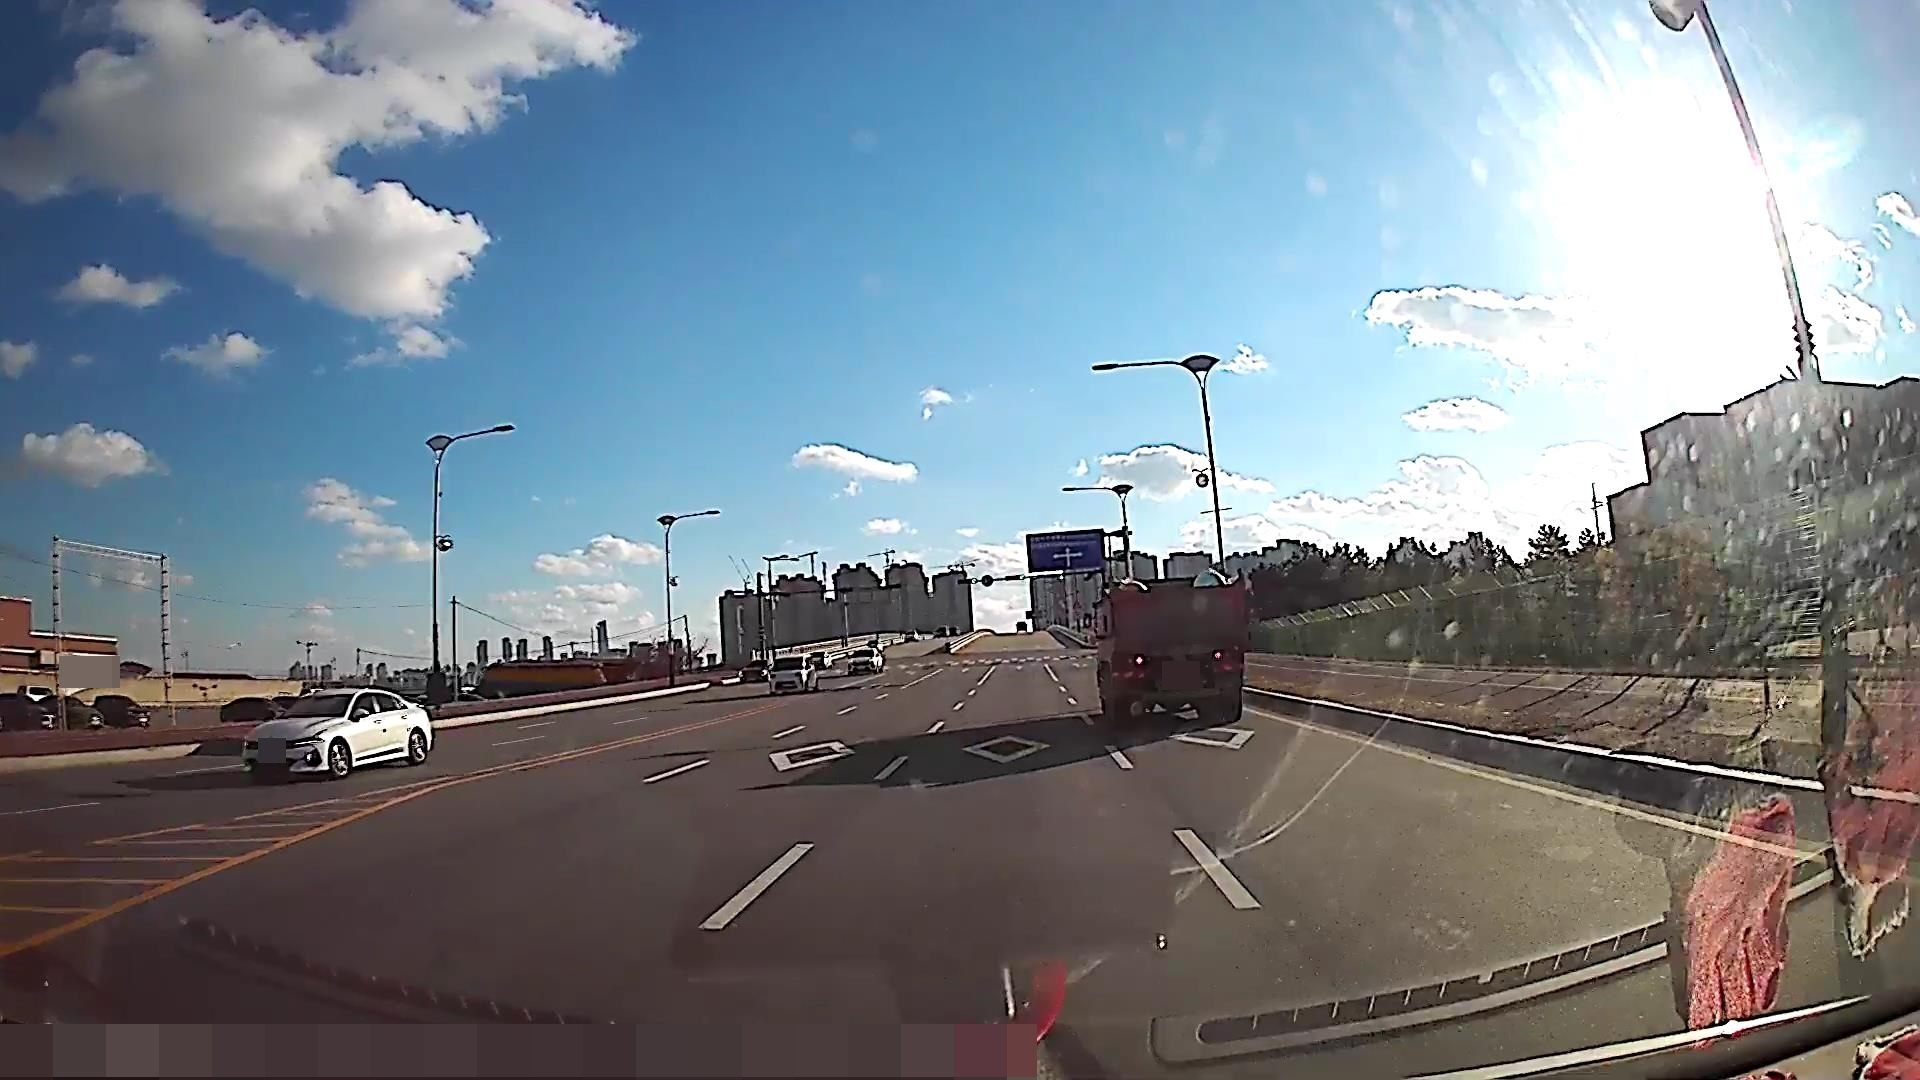불법차량: (1083, 568, 1255, 729)
